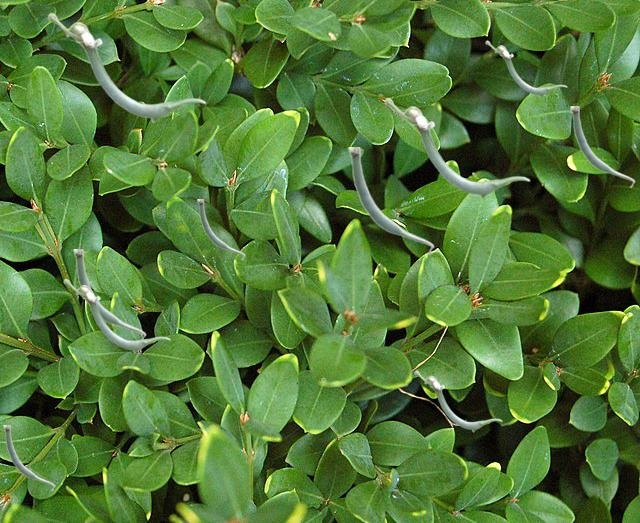french_bean: (47, 12, 205, 122), (384, 97, 529, 198), (348, 147, 433, 254), (63, 278, 169, 352), (73, 249, 145, 338), (414, 370, 501, 431), (570, 106, 634, 187), (485, 40, 566, 96), (3, 425, 54, 490), (197, 199, 244, 259)
